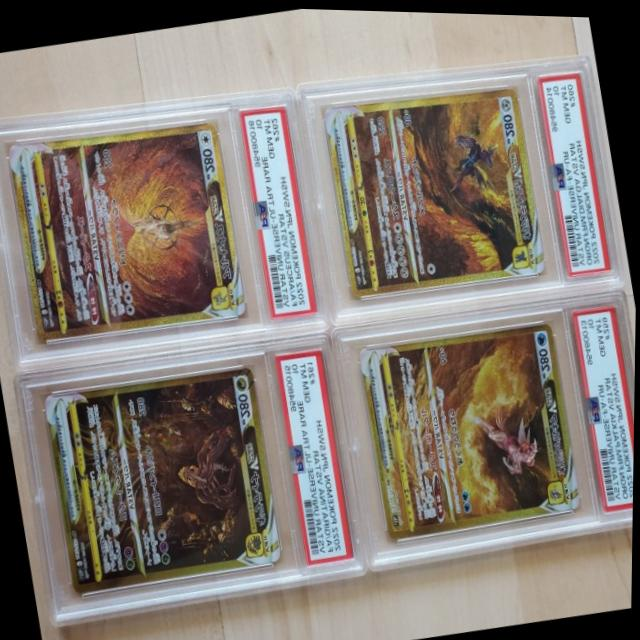card: (45, 364, 282, 592), (9, 120, 246, 339), (360, 318, 582, 537), (323, 84, 546, 295)
